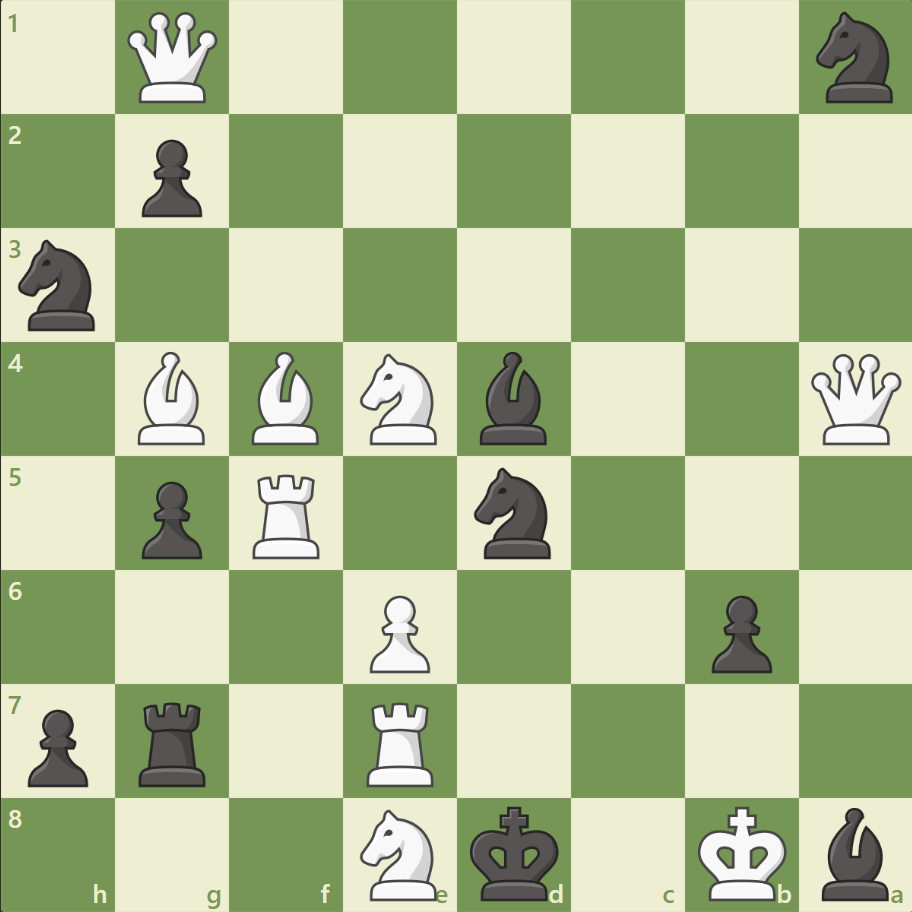B: (244, 347, 328, 449), (131, 347, 215, 449)
K: (692, 798, 792, 906)
N: (351, 802, 449, 904), (351, 348, 449, 450)
P: (361, 586, 435, 677)
Q: (805, 349, 904, 449), (124, 9, 223, 108)
R: (246, 466, 329, 563), (360, 693, 442, 790)
b: (812, 801, 896, 904), (471, 347, 555, 449)
k: (465, 798, 565, 906)
n: (465, 461, 562, 564), (11, 234, 108, 337), (806, 7, 903, 110)
p: (20, 700, 95, 791), (701, 586, 776, 677), (133, 473, 208, 564), (133, 132, 208, 223)
r: (133, 693, 215, 790)
